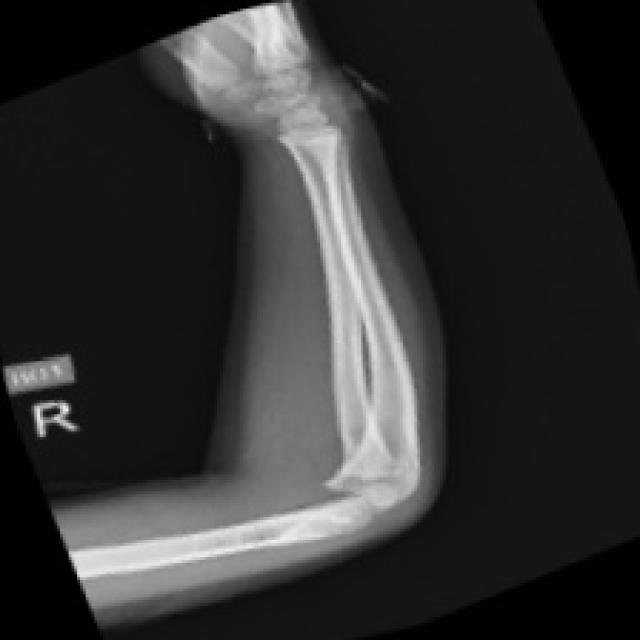non fracture: (24, 22, 618, 627)
